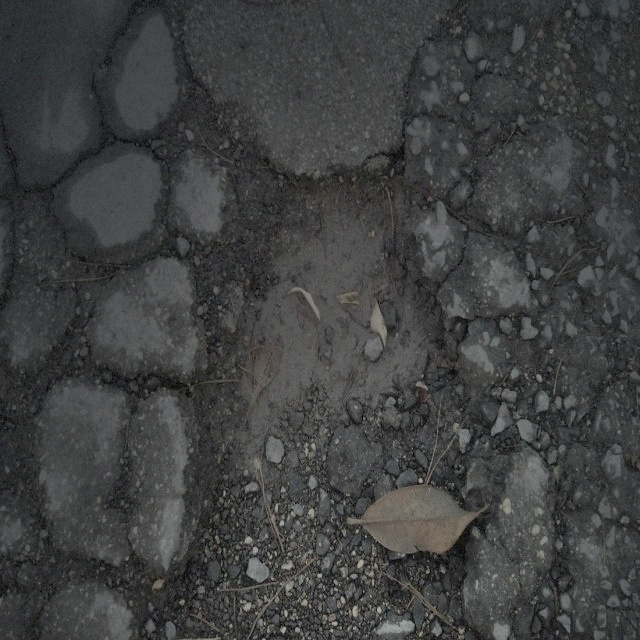pothole: (176, 140, 498, 592)
